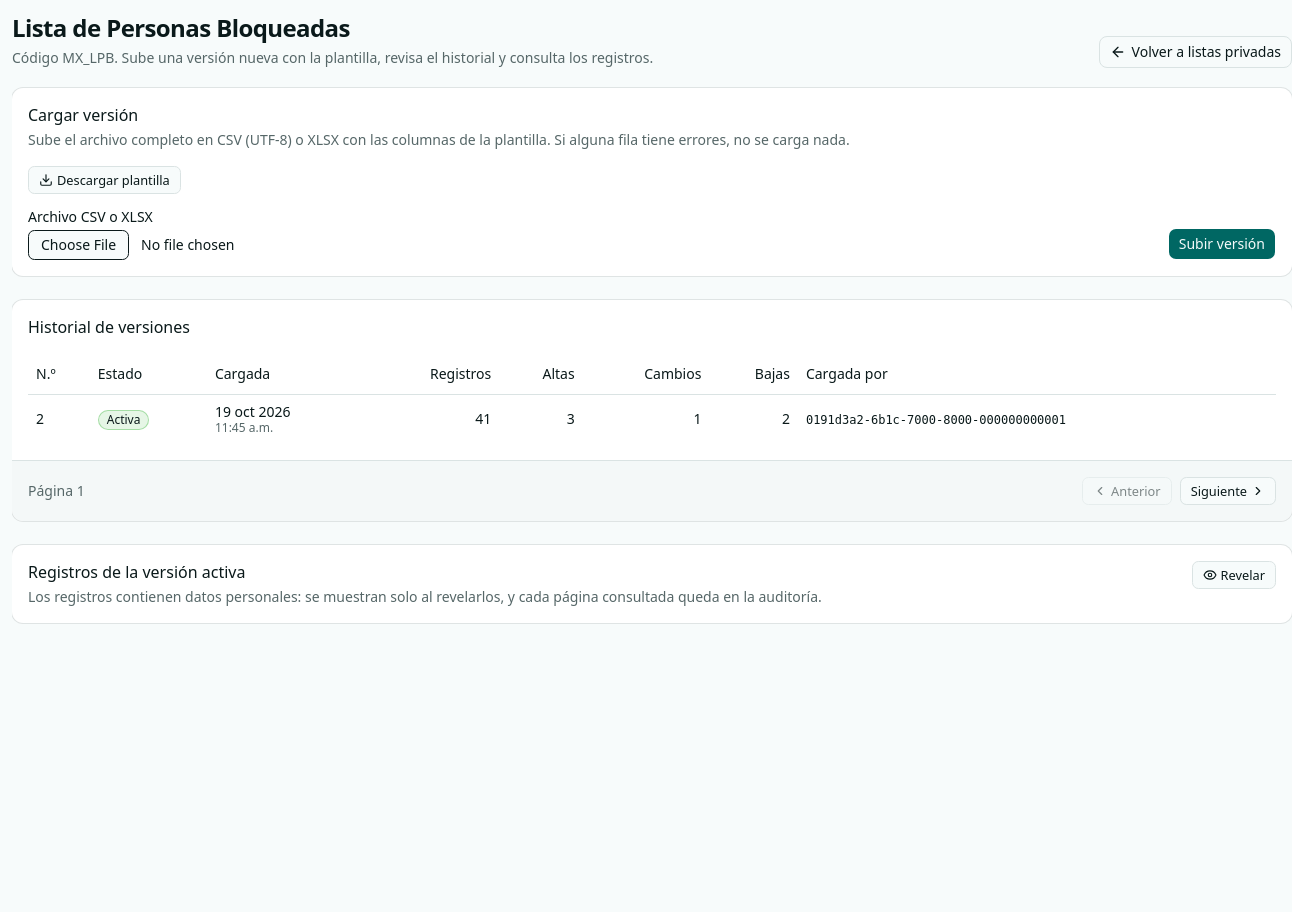
Test case: PrivateListPage: revealed entries › loads no entry until "Revelar", then shows key, type, name and identifiers
Expected: the text "Persona Ficticia Uno" is not shown
What coordinates should you click on to do the following:
click the button "Revelar"
I would click on:
 (1234, 575)
Its box is x1=1192 y1=561 x2=1276 y2=589.
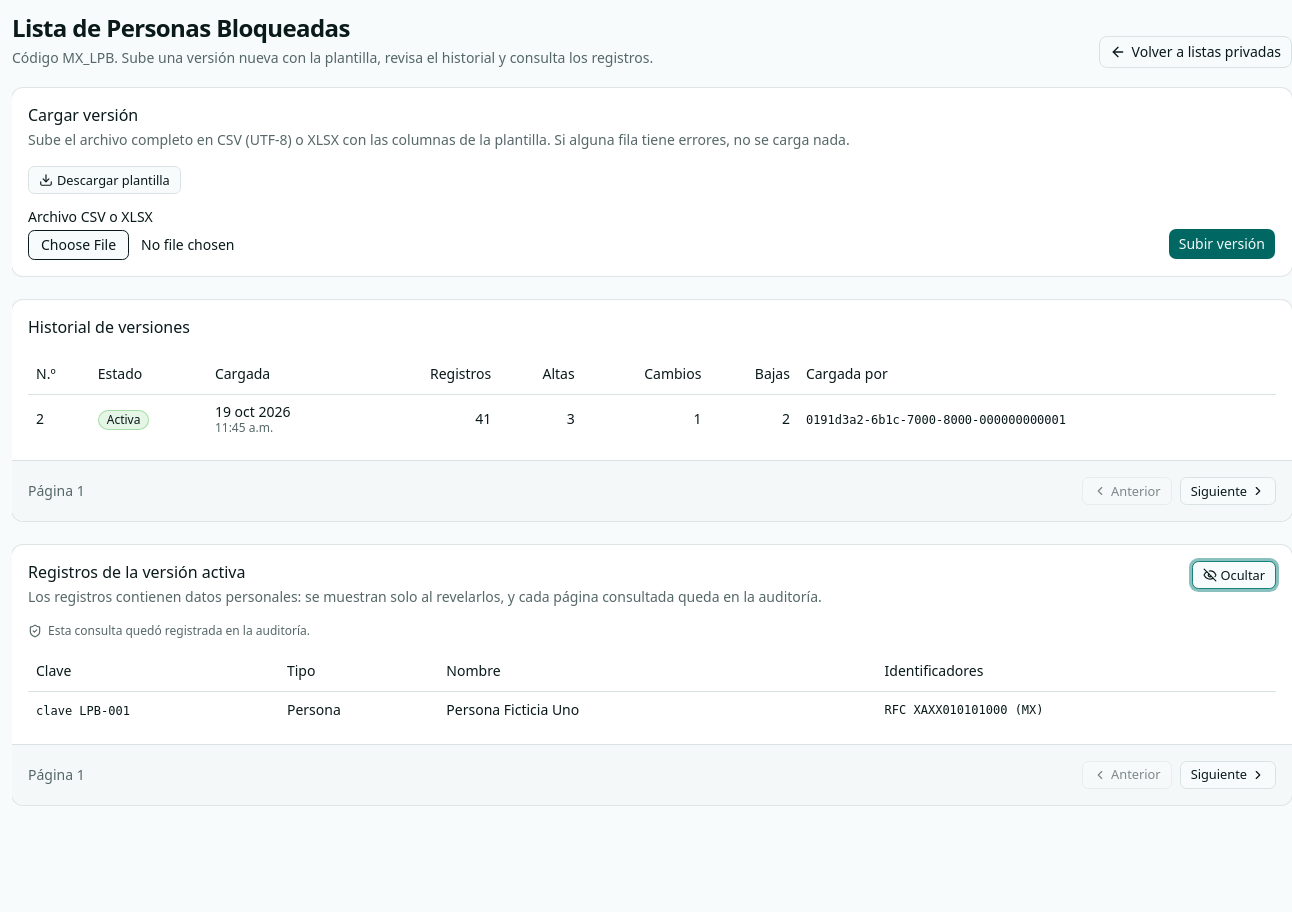
Expected: the text "Persona Ficticia Uno" is shown, x1=438 y1=691 x2=877 y2=728
Expected: the text "clave LPB-001" is shown, x1=36 y1=704 x2=130 y2=718
Expected: the text "Persona" is shown, x1=279 y1=691 x2=438 y2=728
